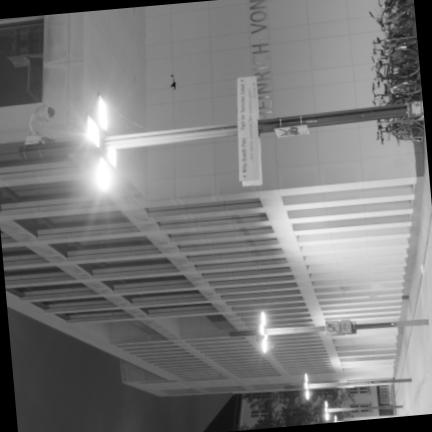Shahed: (170, 73, 177, 90)
